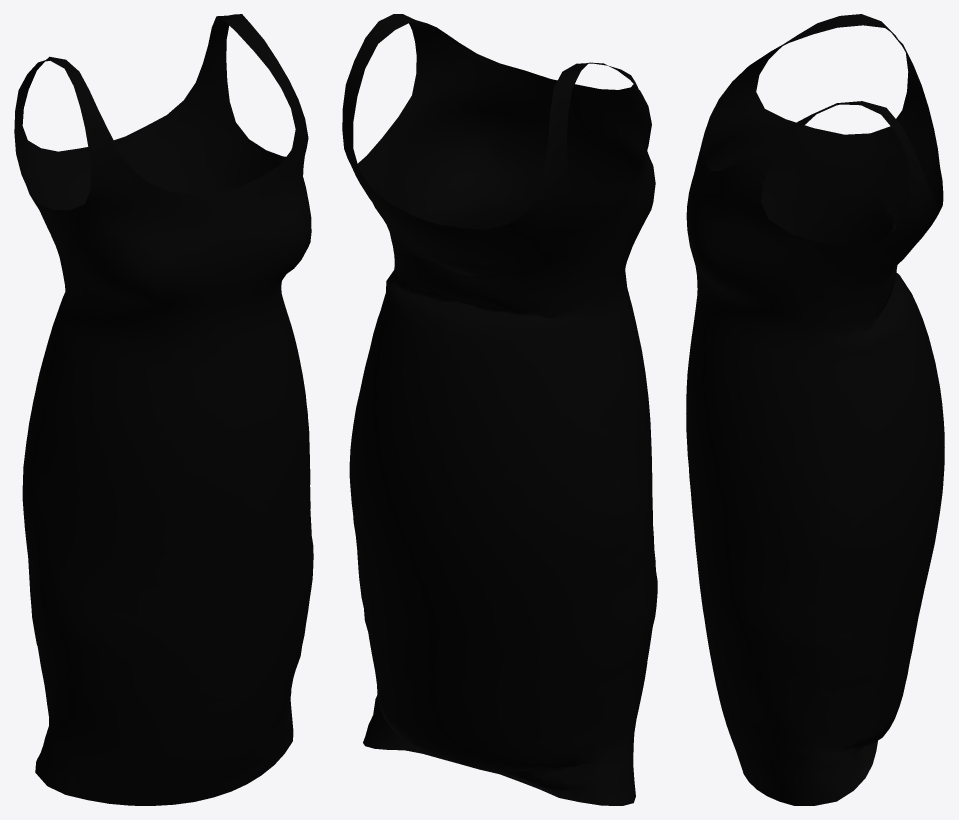
The model's file is puffy_medium_blackbodycon_noinside.obj.
3 renders of one model, left to right at view 1: azimuth 30°, elevation 25°; view 2: azimuth 150°, elevation 25°; view 3: azimuth 270°, elevation 25°, orthographic. The views are drawn at different scales.
Parts seen in each view (by area): view 1: puffy_medium_blackbodycon:polySurface1; view 2: puffy_medium_blackbodycon:polySurface1; view 3: puffy_medium_blackbodycon:polySurface1.
Boxes of the visible parts, bbox=[...] form: puffy_medium_blackbodycon:polySurface1: bbox=[14, 14, 313, 805]; puffy_medium_blackbodycon:polySurface1: bbox=[342, 14, 657, 805]; puffy_medium_blackbodycon:polySurface1: bbox=[686, 14, 944, 805].
Size of the model in its own units: 3.7 by 9.61 by 3.2.
2 materials, 2 textured.
